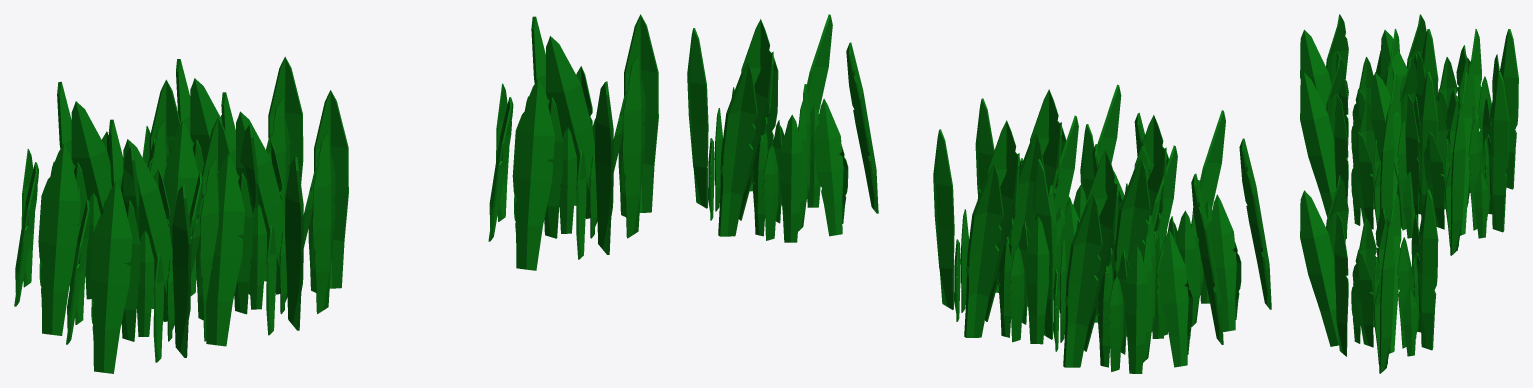
Rendered from Grass3.fbx.
3 renders of one model, left to right at view 1: azimuth 30°, elevation 25°; view 2: azimuth 150°, elevation 25°; view 3: azimuth 270°, elevation 25°, orthographic. The views are drawn at different scales.
Visible parts, largest first — view 1: Plane.004, Plane.005; view 2: Plane.004, Plane.005; view 3: Plane.004, Plane.005.
Boxes of the visible parts, x1,y1,x2,y2 form: Plane.004: [14, 56, 348, 373]; Plane.005: [488, 14, 658, 270]; Plane.004: [933, 84, 1271, 373]; Plane.005: [687, 14, 878, 242]; Plane.004: [1300, 14, 1518, 255]; Plane.005: [1300, 175, 1438, 373].
Bounding box in the file's own units: 419 × 131 × 171.
